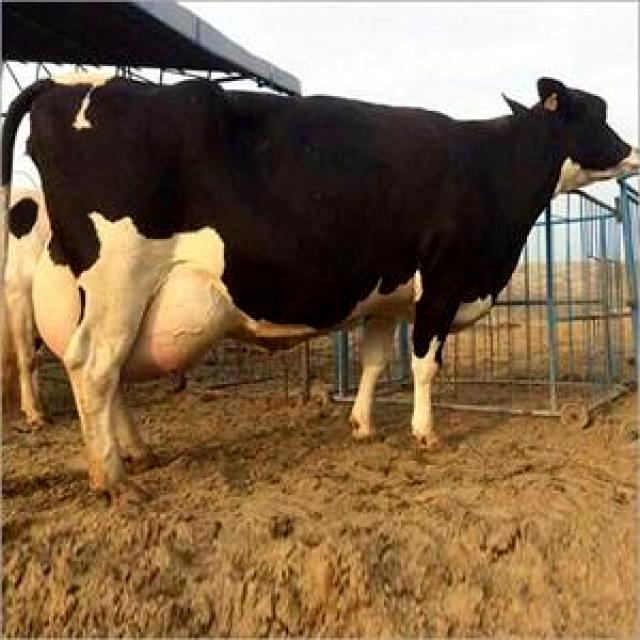COW: (4, 80, 634, 492)
